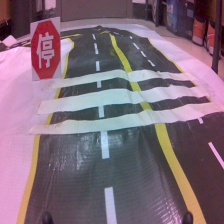stop: (29, 15, 65, 83)
